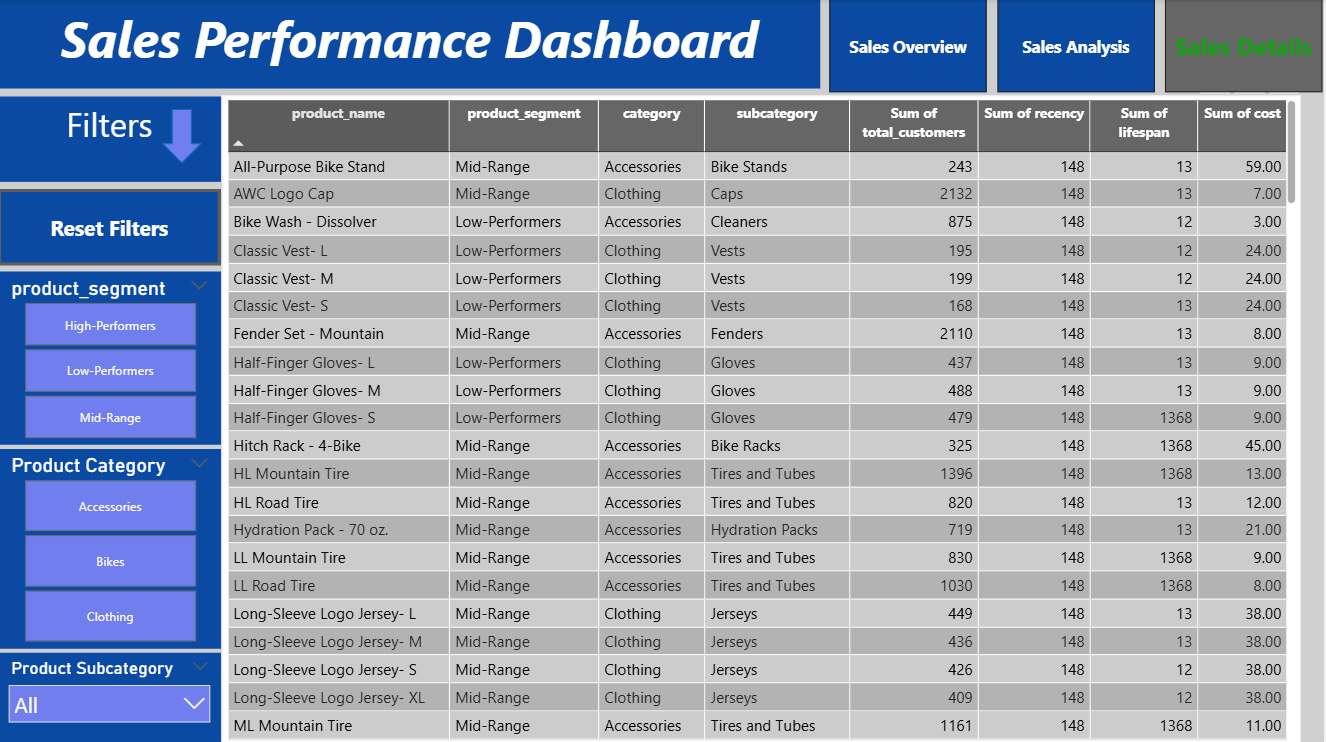

Layout of this report page (visuals, bound fields, positions):
{"tool":"powerbi","page":{"name":"Sales Details","canvas":[1280,720],"ordinal":2},"visuals":[{"type":"slicer","title":"product Category","fields":{"Values":["Data.category"]},"box":[0,434.5,215,192.5],"z":0},{"type":"textbox","box":[0,0,793.8,86.2],"z":1000,"group":"g2"},{"type":"textbox","box":[0,93.5,215,82.5],"z":1000,"group":"g1"},{"type":"slicer","fields":{"Values":["Data.product_segment"]},"box":[0,263.2,215,167.5],"z":1000},{"type":"slicer","fields":{"Values":["Data.subcategory"]},"box":[0,631.2,215,88.8],"z":2000},{"type":"group","id":"g1","title":"Group 1","box":[0,93.5,215,82.5],"z":3000},{"type":"actionButton","box":[0,183.8,215,73.8],"z":4000},{"type":"shape","box":[157.5,106.2,38.8,52.5],"z":5000},{"type":"group","id":"g2","title":"Group 1","box":[0,0,793.8,86.2],"z":6000},{"type":"tableEx","fields":{"Values":["Data.product_name","Data.product_segment","Data.category","Data.subcategory","Sum(Data.total_customers)","Sum(Data.recency)","Sum(Data.lifespan)","Sum(Data.cost)"]},"box":[215.5,93.1,1041.8,627.4],"z":7000},{"type":"pageNavigator","box":[802.5,0,478,90],"z":8000}]}

Visuals, with their boxes in screenshot pixels (x1, y1, x2, y2), scaled from the page's 1280x720 canvas onto the 1326x742 screenshot:
"product Category" slicer: select_region(0, 448, 223, 646)
textbox: select_region(0, 0, 822, 89)
textbox: select_region(0, 96, 223, 181)
slicer - Data.product_segment: select_region(0, 271, 223, 444)
slicer - Data.subcategory: select_region(0, 650, 223, 741)
"Group 1" group: select_region(0, 96, 223, 181)
actionButton: select_region(0, 189, 223, 265)
shape: select_region(163, 109, 203, 164)
"Group 1" group: select_region(0, 0, 822, 89)
tableEx - Data.product_name x Data.product_segment: select_region(223, 96, 1302, 741)
pageNavigator: select_region(831, 0, 1325, 93)
